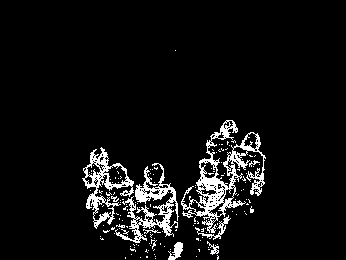person: (135, 163, 183, 260), (182, 159, 227, 260), (89, 164, 136, 247), (229, 131, 265, 214), (81, 145, 108, 220), (207, 119, 238, 175)
